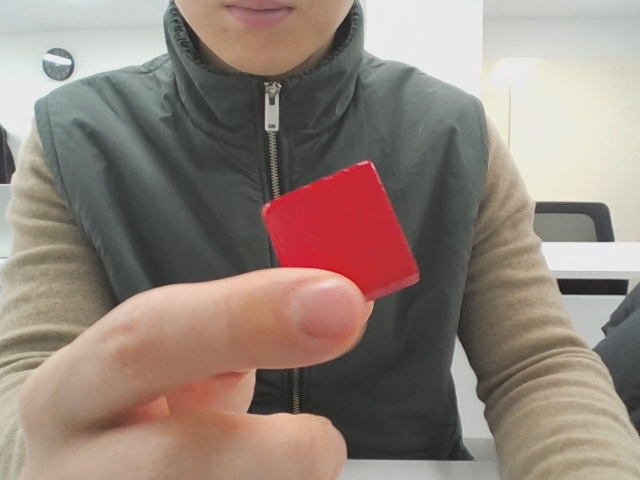normal: (257, 160, 419, 324)
